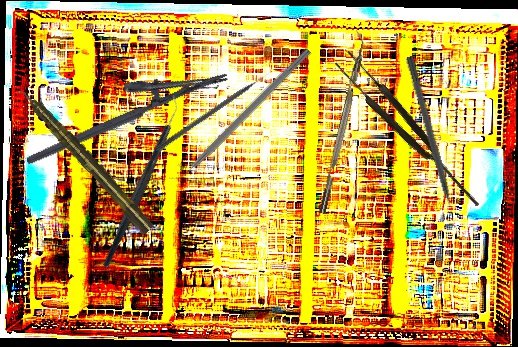Chopper: (52, 93, 227, 269), (165, 40, 312, 188), (309, 29, 371, 215)
Handpiece: (14, 82, 156, 237)
Needle Holder: (14, 44, 230, 167)
Pusher: (154, 69, 274, 154), (403, 55, 459, 225)
Tissue Forceps: (332, 48, 487, 215)
